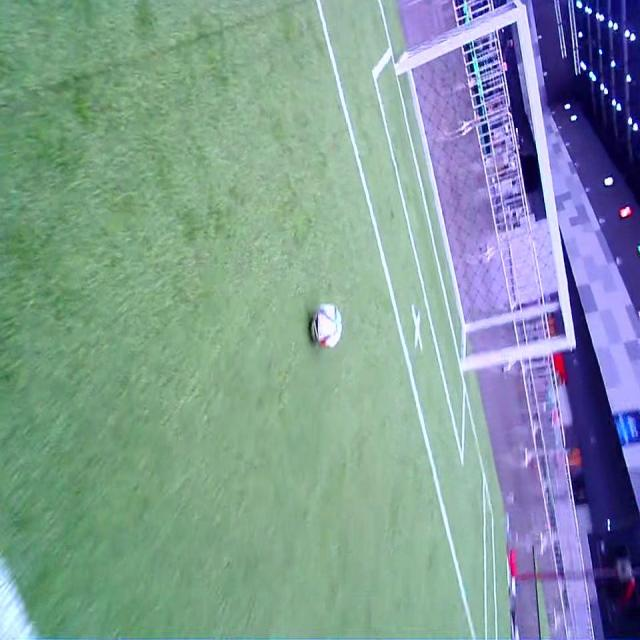ball: (309, 304, 342, 348)
